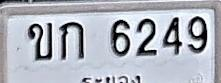2: (136, 18, 156, 56)
4: (162, 16, 182, 55)
6: (110, 19, 130, 56)
9: (187, 15, 207, 53)
A01: (59, 21, 84, 60)
A02: (27, 22, 52, 60)
